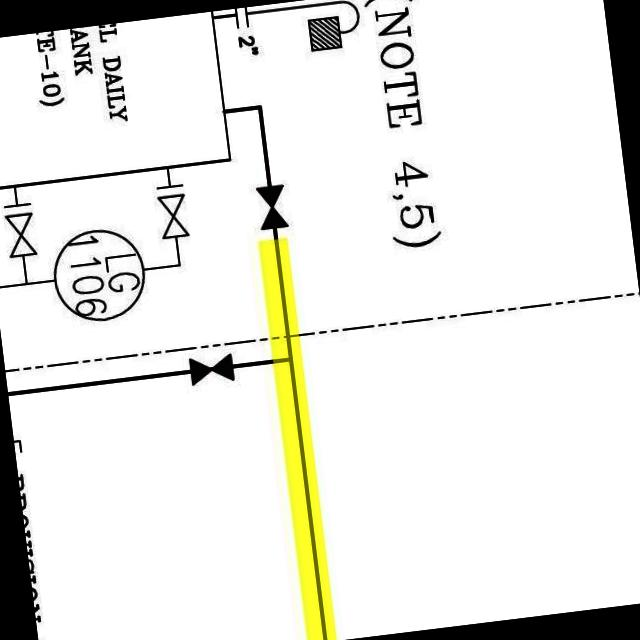GV: (0, 206, 44, 264), (155, 189, 192, 245)
